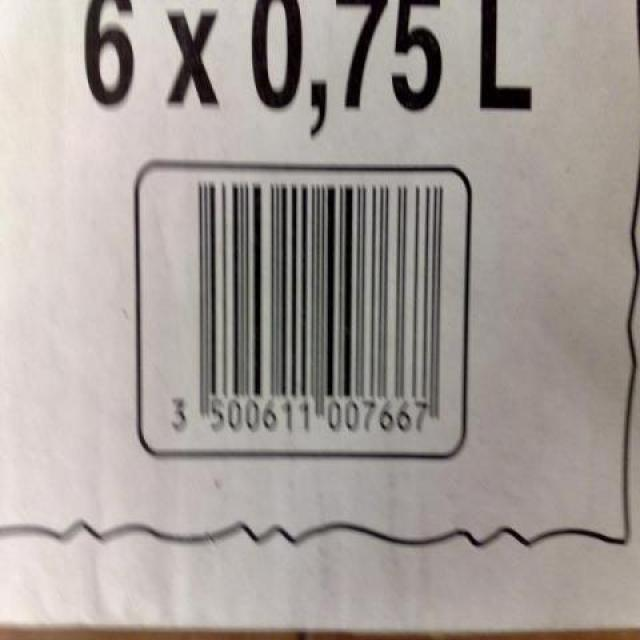Barcode: (136, 158, 471, 462)
